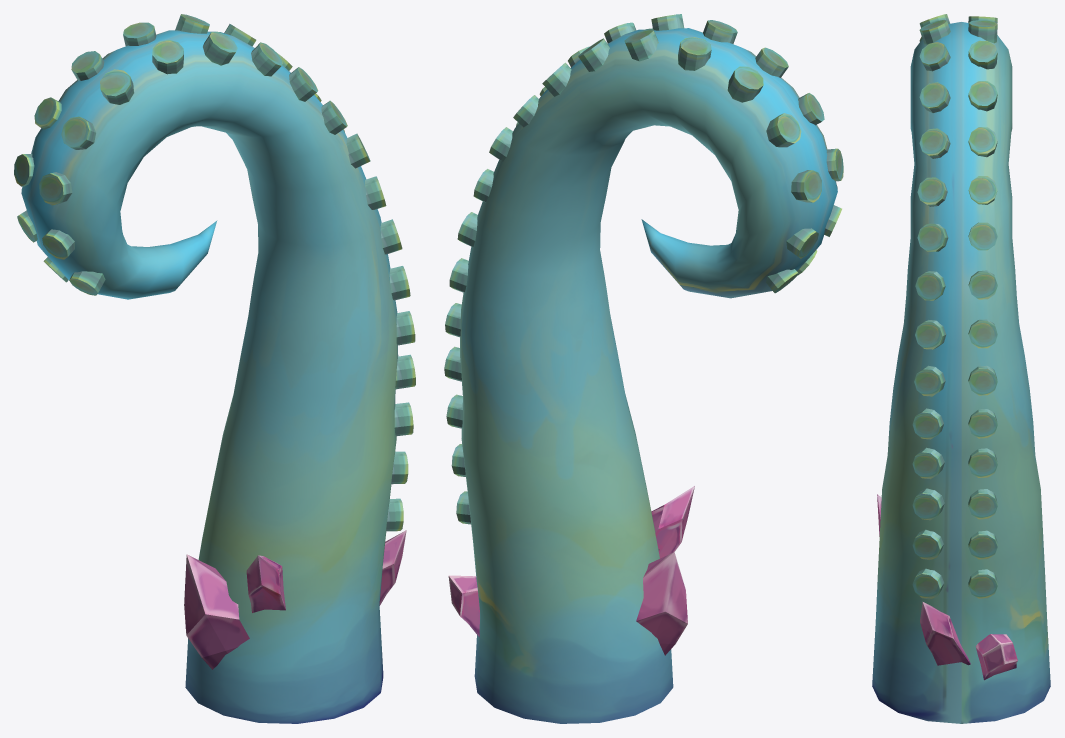
File: SM_tentacle1.fbx
3 views of the same model, side by side, from view 1: azimuth 30°, elevation 25°; view 2: azimuth 150°, elevation 25°; view 3: azimuth 270°, elevation 25° (orthographic). The views are drawn at different scales.
Parts seen in each view (by area): view 1: tentacle1; view 2: tentacle1; view 3: tentacle1.
Boxes of the visible parts, x1,y1,x2,y2 form: tentacle1: (14,14,415,723); tentacle1: (444,14,843,723); tentacle1: (872,14,1050,723).
Size of the model in its own units: 145 by 256 by 68.07.
